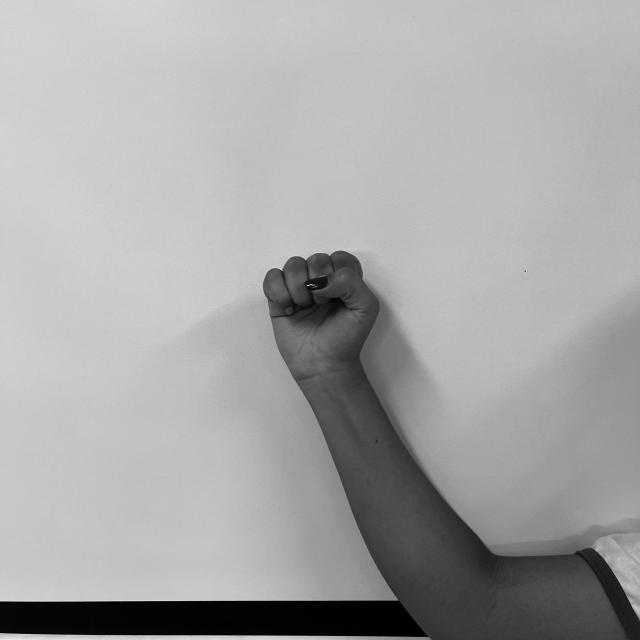Letra S: (258, 247, 388, 376)
